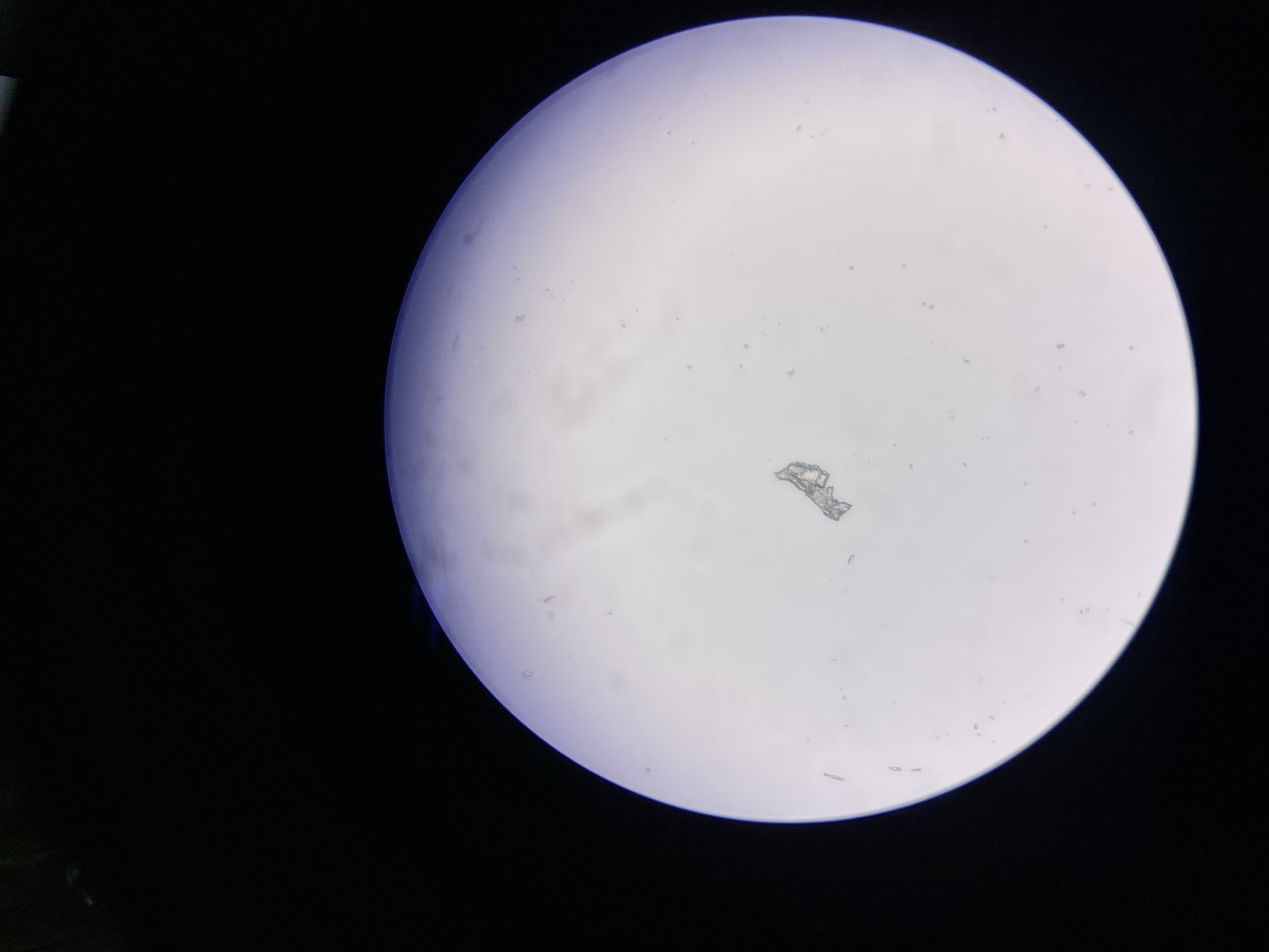not_microplastic: (777, 456, 860, 524)
